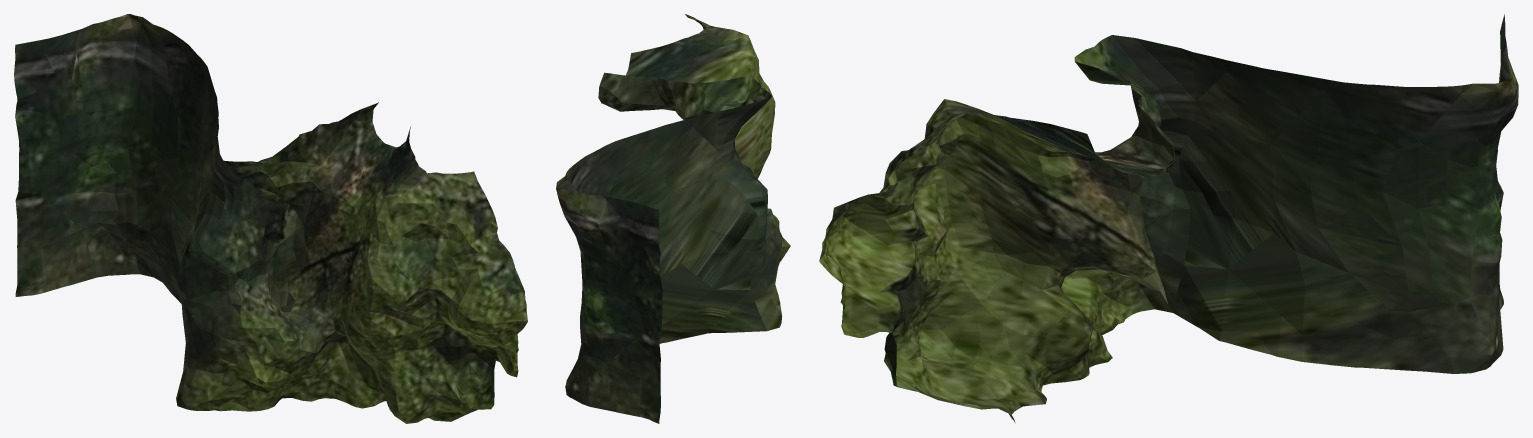
The model's file is tile_5_28_6_tex.obj.
3 renders of one model, left to right at view 1: azimuth 30°, elevation 25°; view 2: azimuth 150°, elevation 25°; view 3: azimuth 270°, elevation 25°, orthographic. The views are drawn at different scales.
Parts seen in each view (by area): view 1: obj_0; view 2: obj_0; view 3: obj_0.
Boxes of the visible parts, <box> form: obj_0: <box>14,14,527,423</box>; obj_0: <box>556,14,790,423</box>; obj_0: <box>819,14,1518,422</box>.
Bounding box in the file's own units: 5.01 × 5.64 × 12.33.
Materials: 1 (1 with a texture image).
